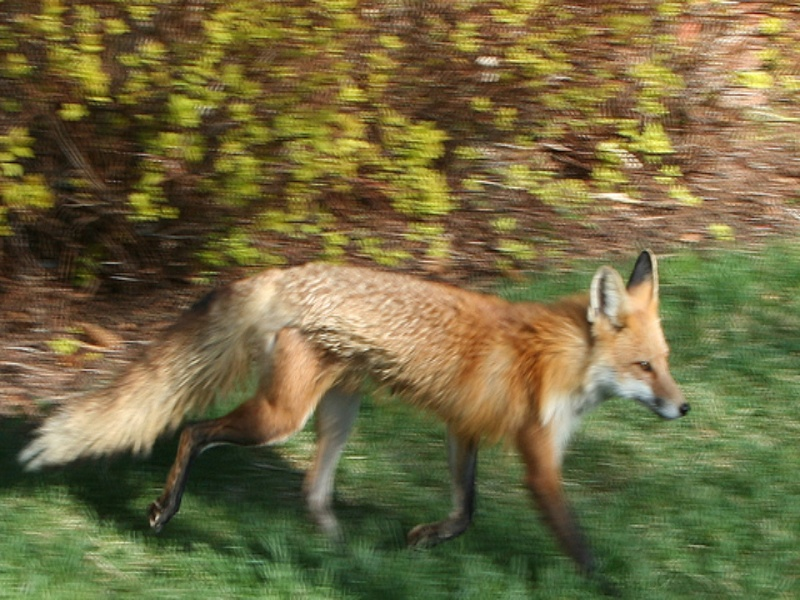fox: (19, 247, 690, 557)
